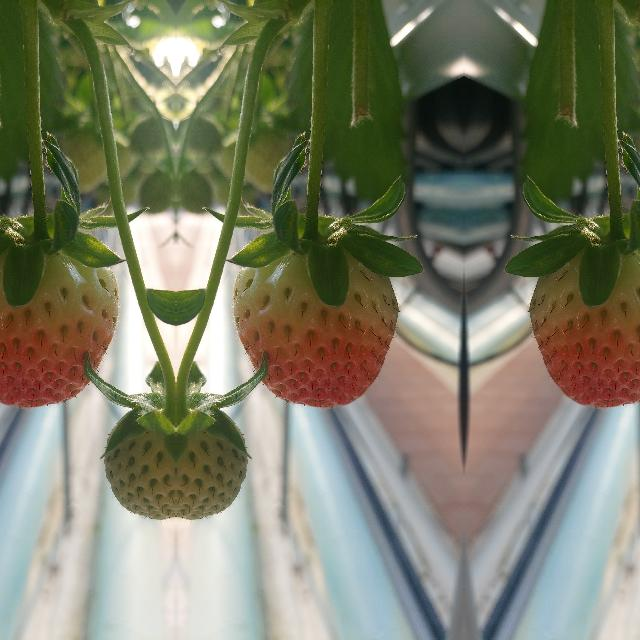Health_25: (176, 388, 247, 528), (104, 388, 174, 528)
Health_75: (232, 245, 398, 407), (0, 245, 117, 407), (528, 245, 640, 407)
